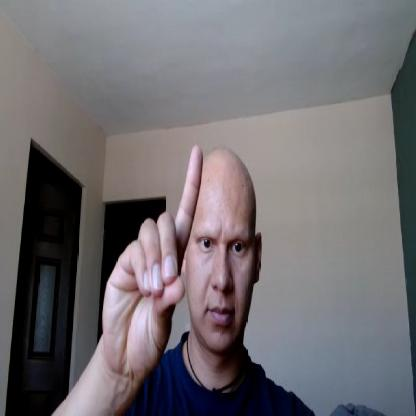D: (103, 143, 203, 369)
